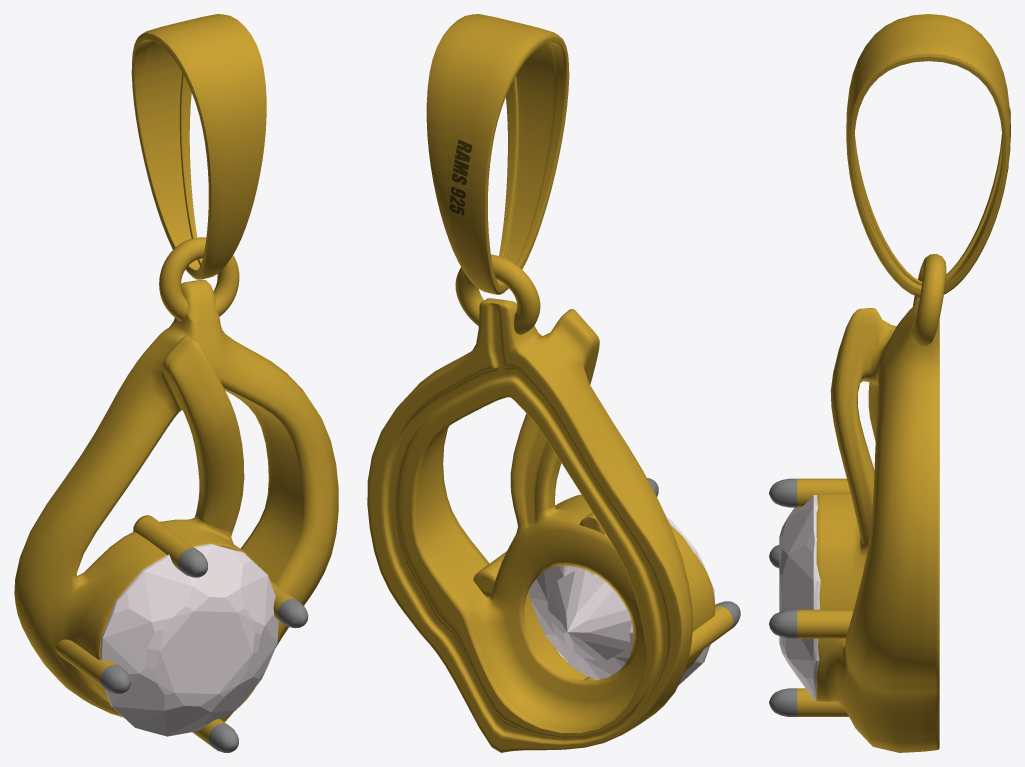
File: Necklace3.glb
3 renders of one model, left to right at view 1: azimuth 30°, elevation 25°; view 2: azimuth 150°, elevation 25°; view 3: azimuth 270°, elevation 25°, orthographic. The views are drawn at different scales.
Bounding box in the file's own units: 0.9692 × 2.1 × 0.6369.
